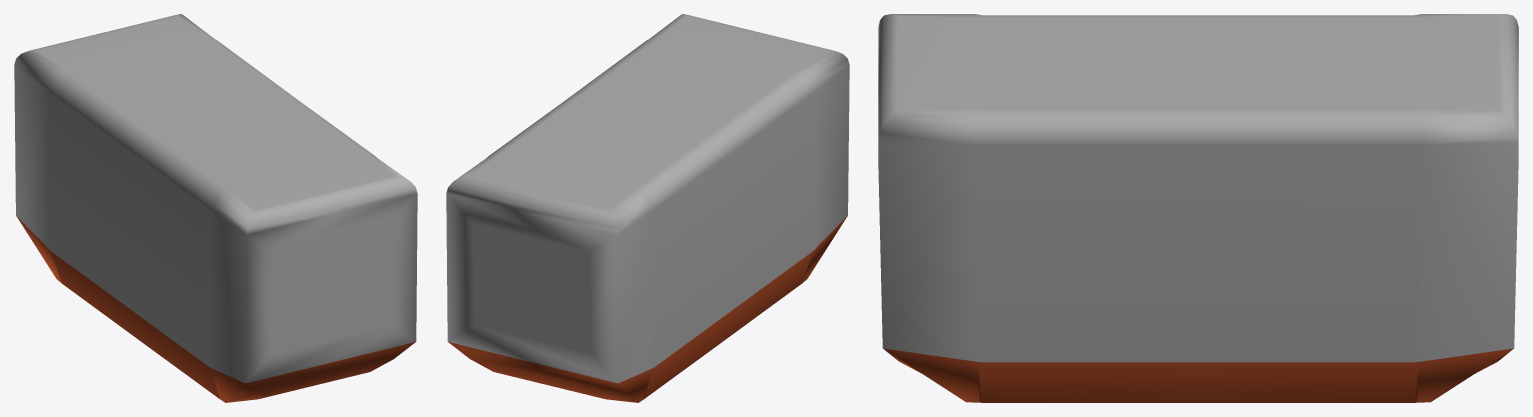
File: Geo_Arena_RETEX.fbx
3 views of the same model, side by side, from view 1: azimuth 30°, elevation 25°; view 2: azimuth 150°, elevation 25°; view 3: azimuth 270°, elevation 25° (orthographic). The views are drawn at different scales.
Visible parts, largest first — view 1: Geo_ArenaWalls; view 2: Geo_ArenaWalls; view 3: Geo_ArenaWalls.
Part boxes in pixels (left/top/right/bottom): Geo_ArenaWalls: left=14, top=14, right=417, bottom=402; Geo_ArenaWalls: left=446, top=14, right=849, bottom=402; Geo_ArenaWalls: left=878, top=14, right=1518, bottom=402.
Size of the model in its own units: 7557 by 8889 by 17837.
